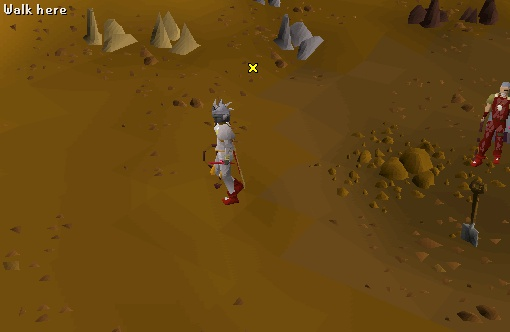clay: (143, 5, 209, 65), (77, 3, 138, 66)
tin: (267, 10, 330, 69)
